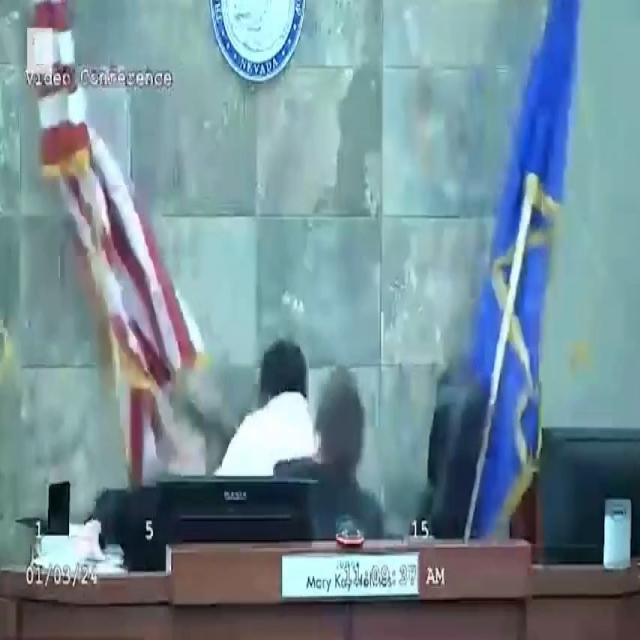fight: (160, 337, 391, 542)
